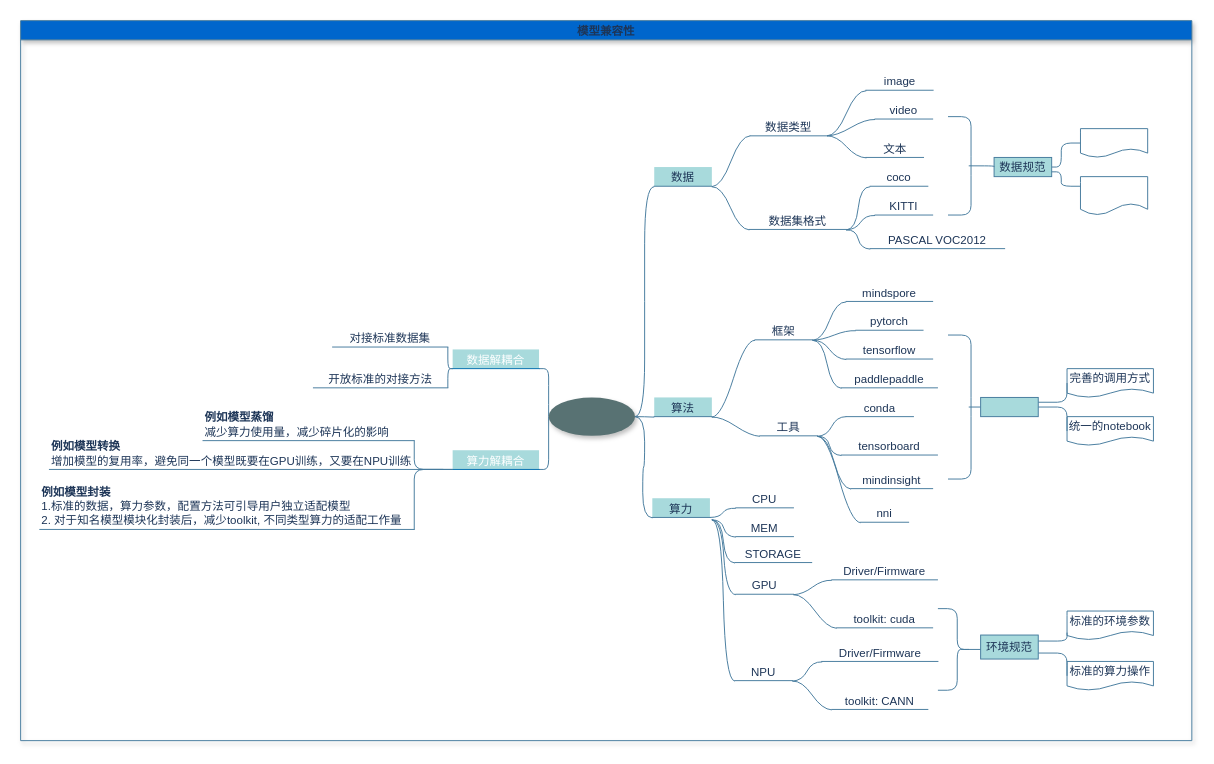
Some shapes in this 1214 by 764 pixel diagram are drawn without their labels. Each missing label, with the centre of its shape:
"提供预处理工具和指令" belongs at (1114,195).
"暴露配置项" belongs at (1114,142).
"模型兼容性特征" belongs at (592,417).
"模型规范" belongs at (1009,406).
